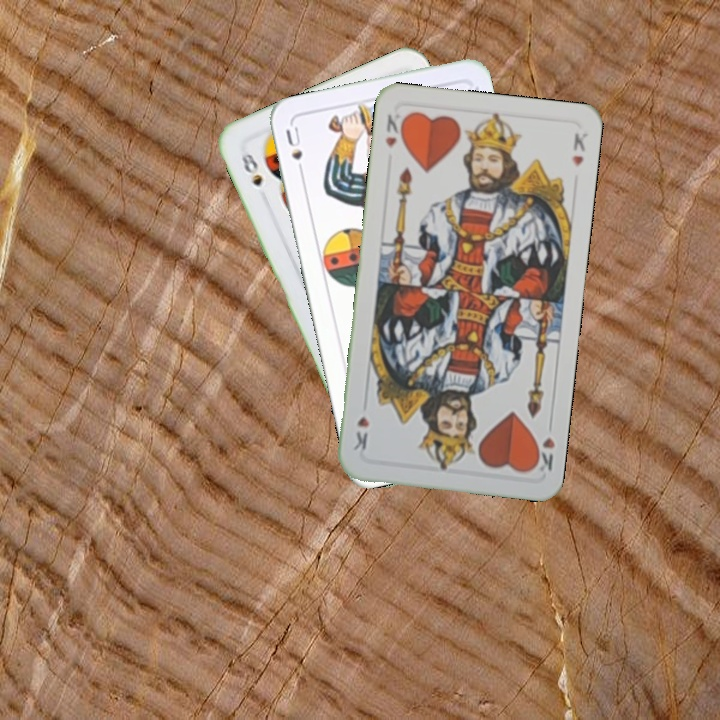HK: (529, 416, 558, 476), (381, 110, 408, 150)
S8: (237, 149, 265, 189)
SU: (281, 121, 307, 180)
